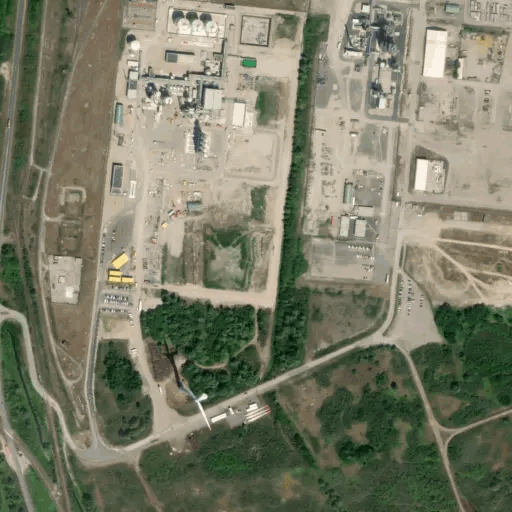wt: (153, 324, 214, 436)
